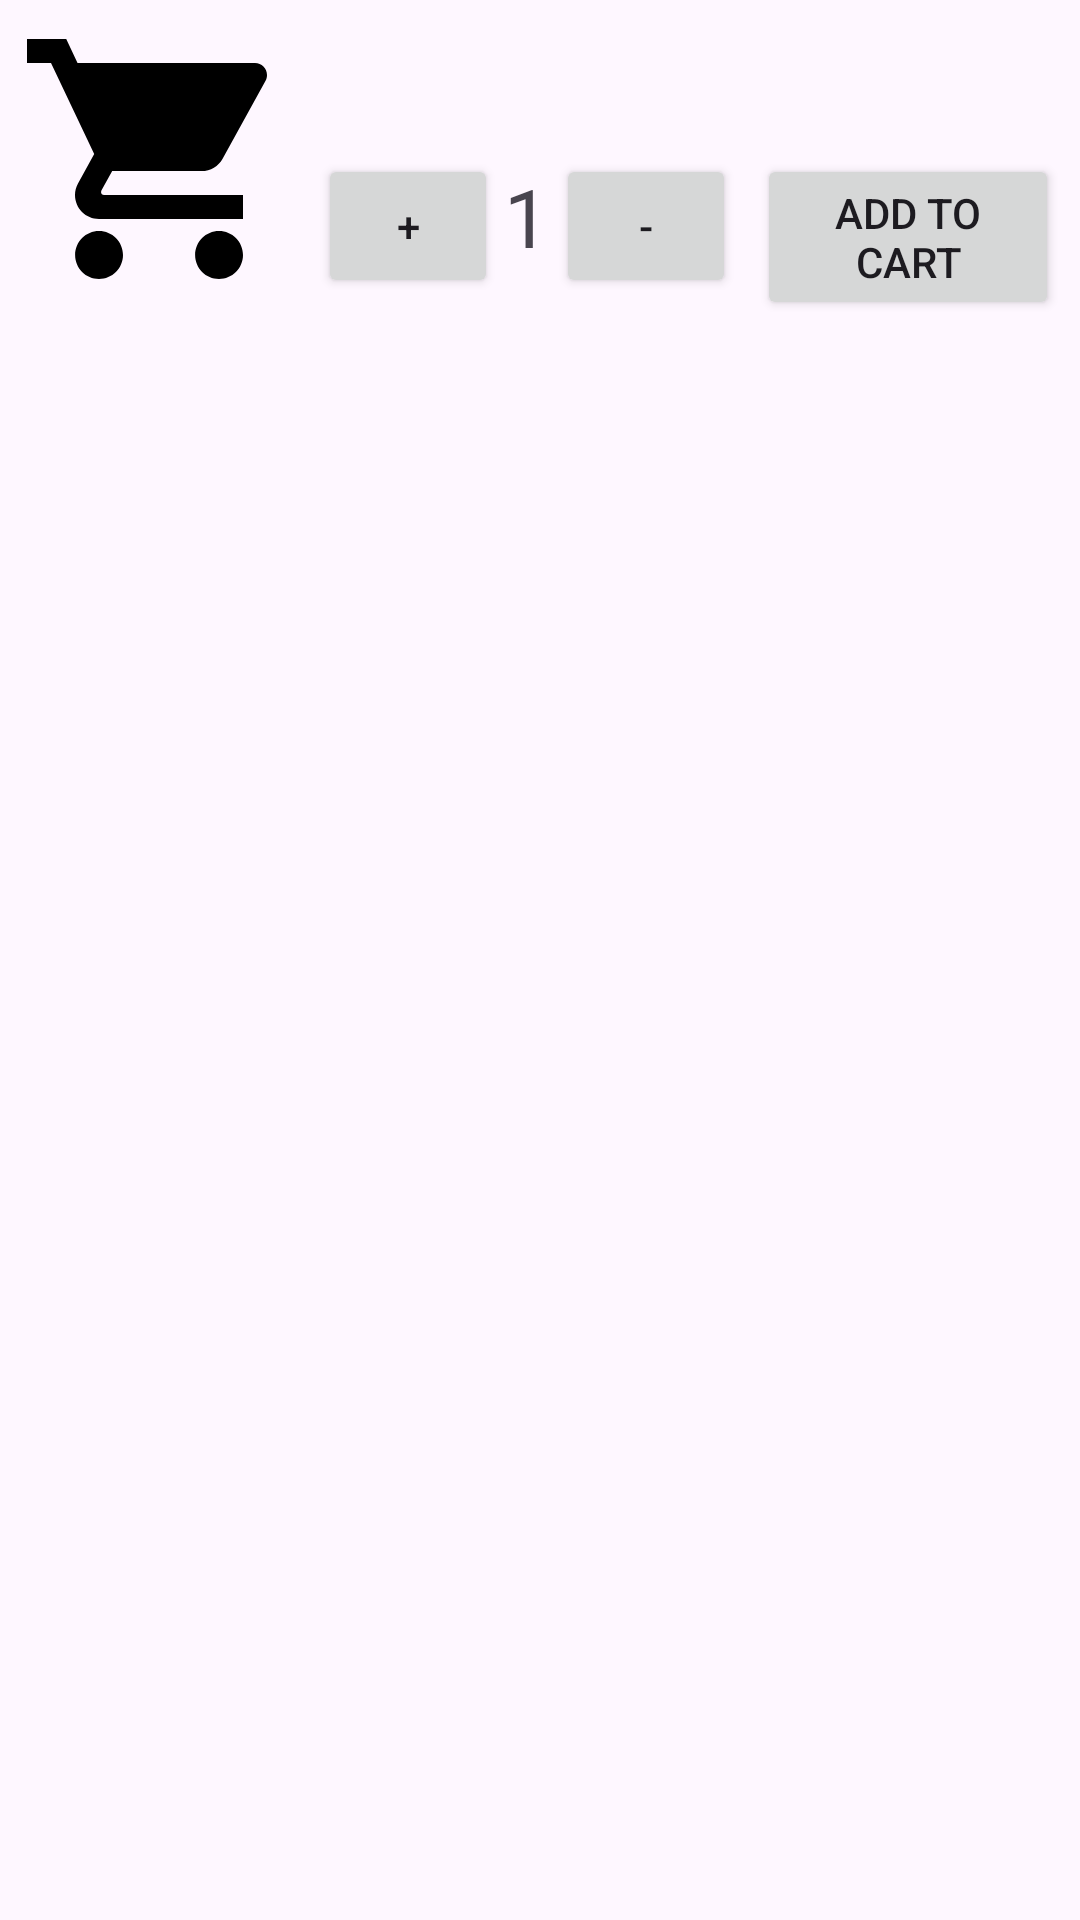

Icons on this 1080w x 1920h Android screen, each with its box as BBox(x1, y1, x2, y2):
shopping cart: BBox(27, 39, 267, 279)
